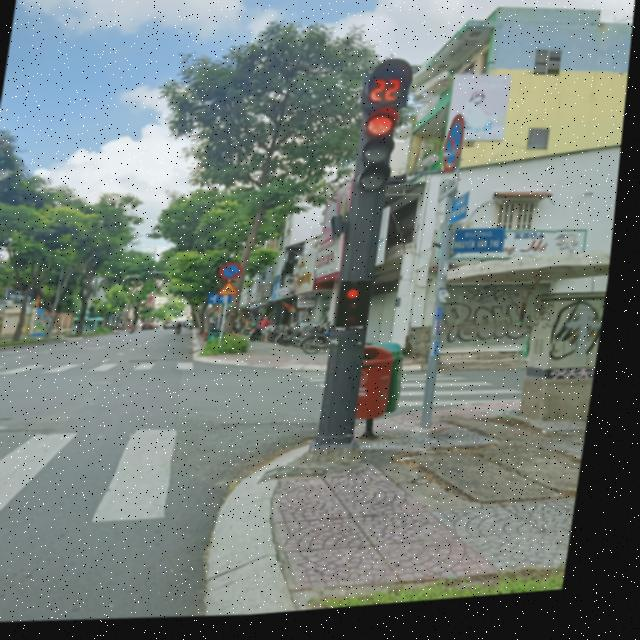Red: (355, 109, 411, 203), (340, 286, 376, 336)
